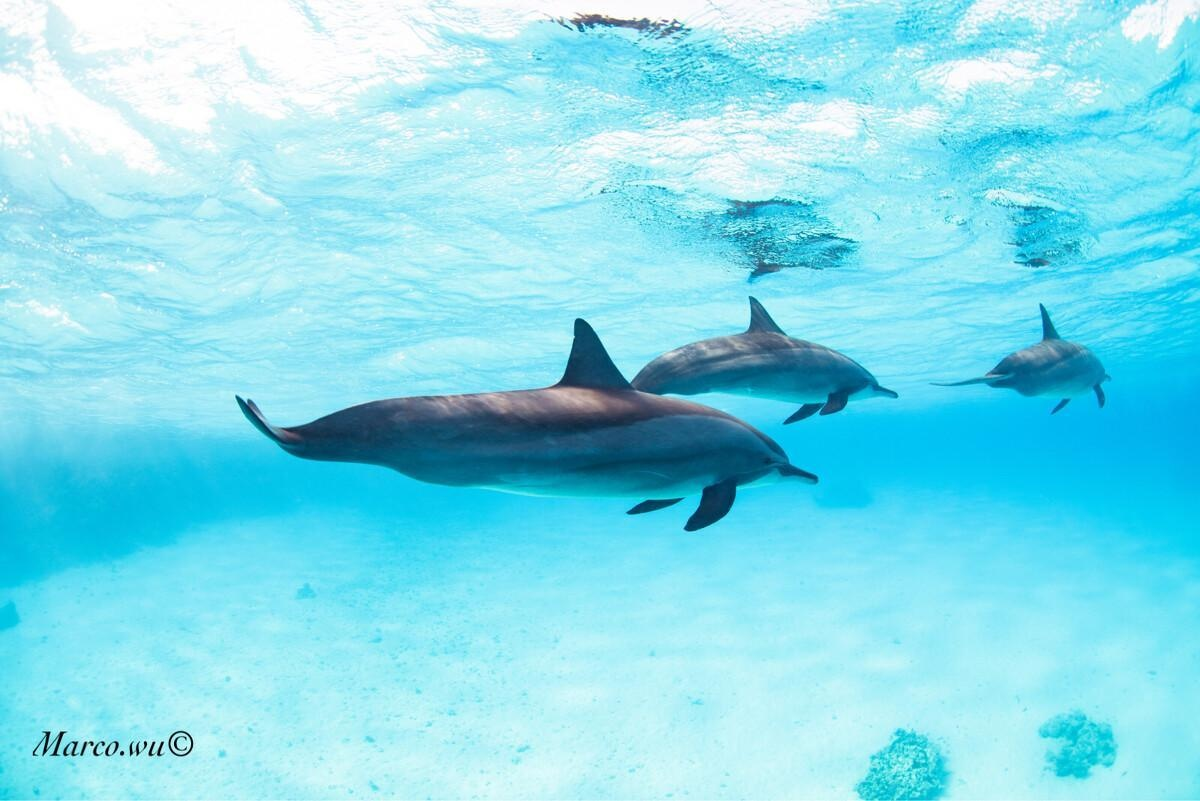fish: (221, 318, 821, 533), (631, 294, 898, 401), (928, 304, 1115, 413)
